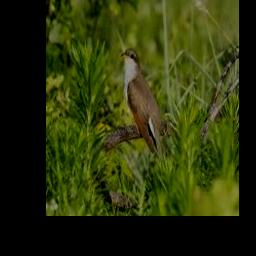Cuckoo: (120, 48, 165, 162)
